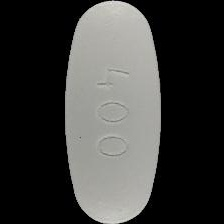66267-095: (0, 0, 224, 224)
